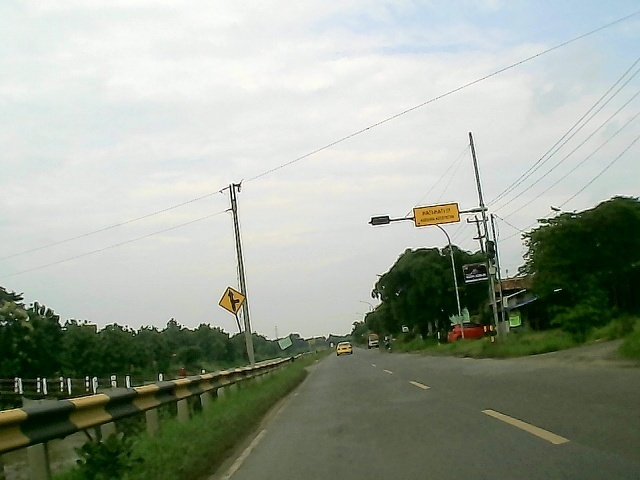Simpang kanan dengan prioritas: (216, 285, 248, 319)
